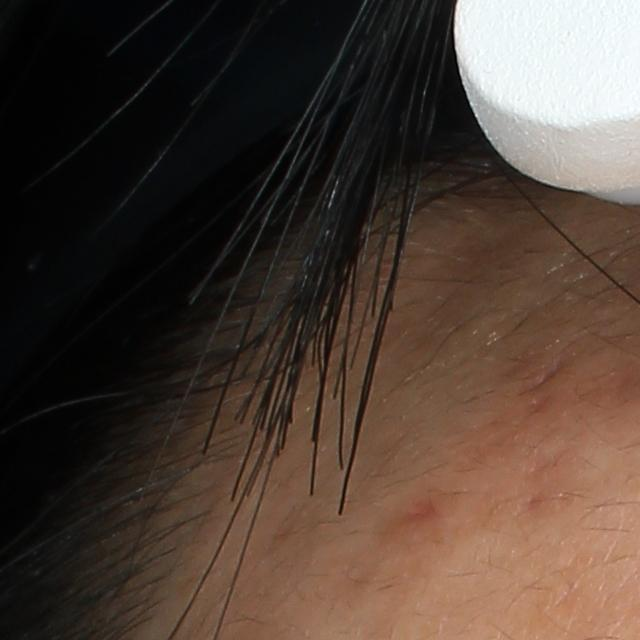atrophic_scar: (518, 436, 581, 485), (508, 351, 563, 398), (490, 493, 568, 524)
